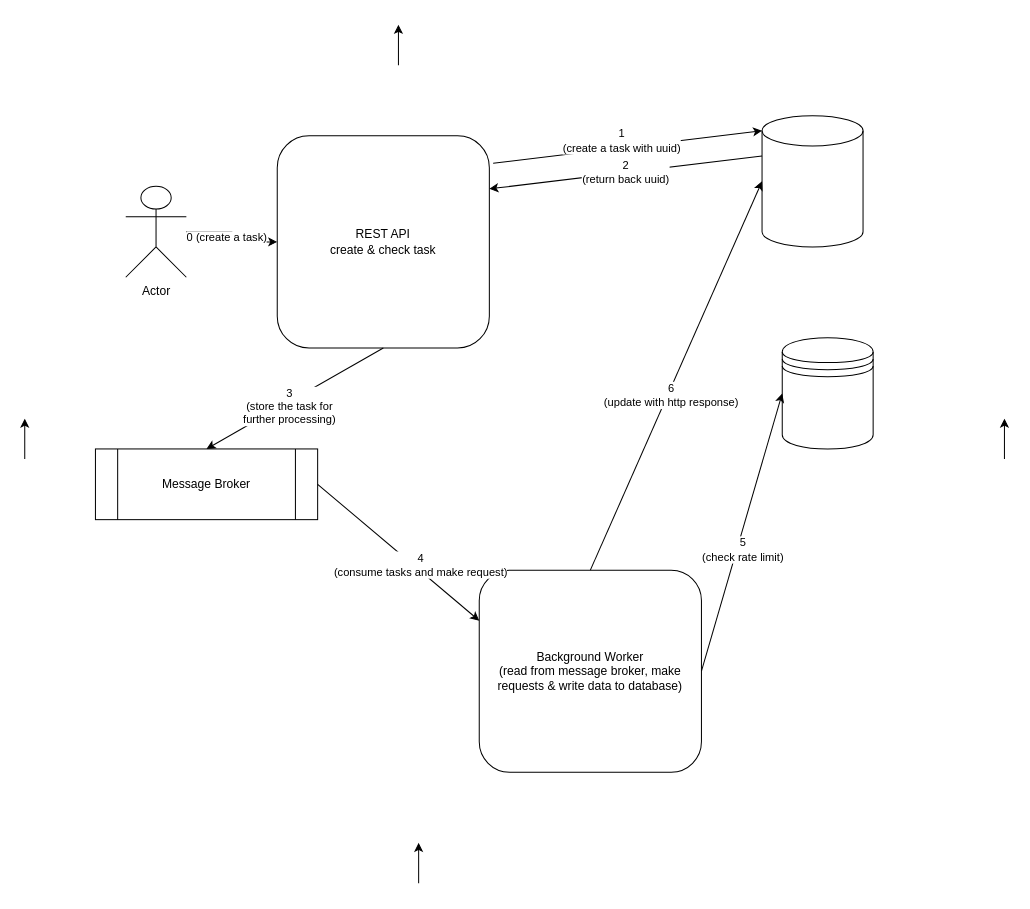
Image size: 1030x909. Some labels were removed from this diagram. The centre of each missing label's shape, as x and y in pixels:
PostgreSQL: [812,181]
Redis (for rate limit): [827,393]
